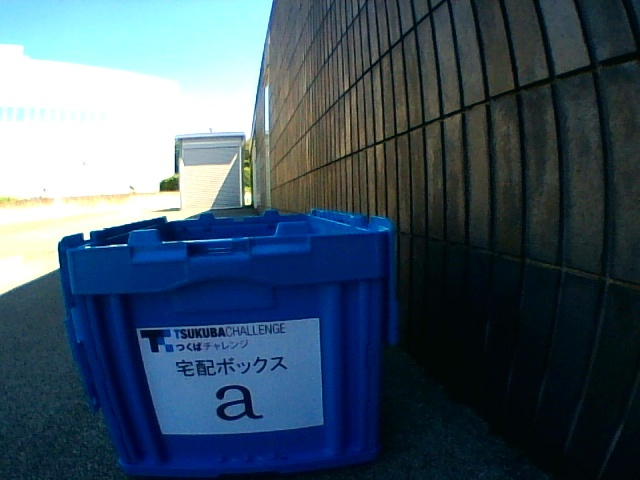blue_box: (58, 207, 393, 473)
tag_a: (167, 333, 305, 427)
